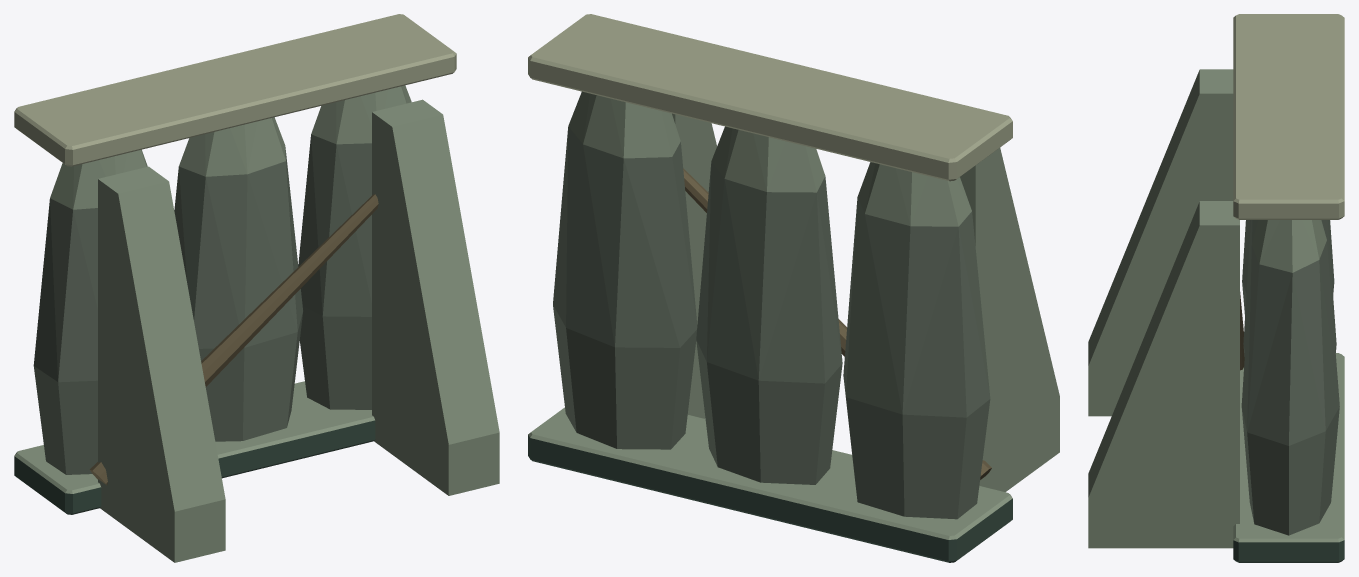
The model's file is wall-buttress.glb.
The picture shows the model from 3 angles, left to right: view 1: azimuth 30°, elevation 25°; view 2: azimuth 150°, elevation 25°; view 3: azimuth 270°, elevation 25°; orthographic projection. The views are drawn at different scales.
Parts seen in each view (by area): view 1: wall-buttress__body; view 2: wall-buttress__body; view 3: wall-buttress__body.
Part boxes in pixels (<box>): wall-buttress__body: <box>14,14,499,562</box>; wall-buttress__body: <box>528,14,1059,562</box>; wall-buttress__body: <box>1088,14,1344,562</box>.
Size of the model in its own units: 2.01 by 1.8 by 1.15.
